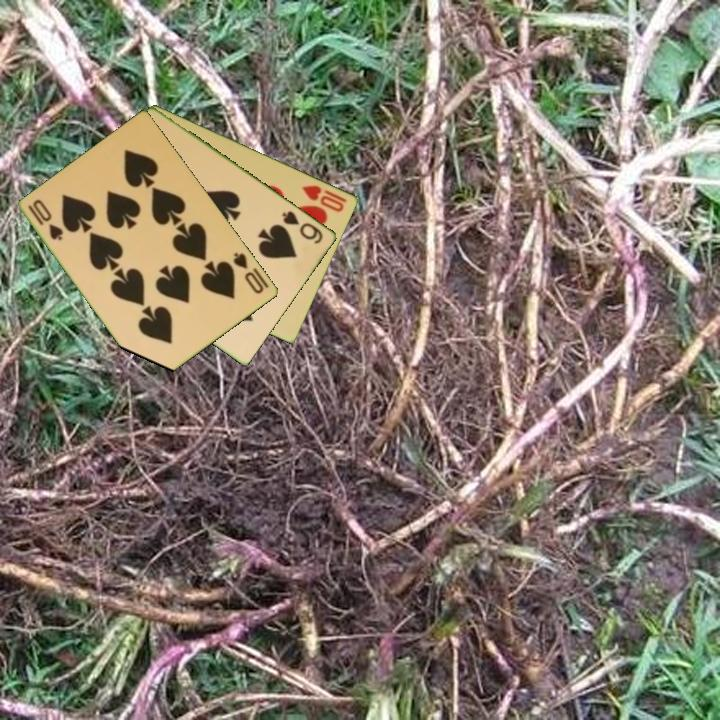10h: (299, 181, 347, 215)
10s: (25, 196, 67, 244), (230, 249, 267, 297)
6s: (278, 207, 326, 247)
